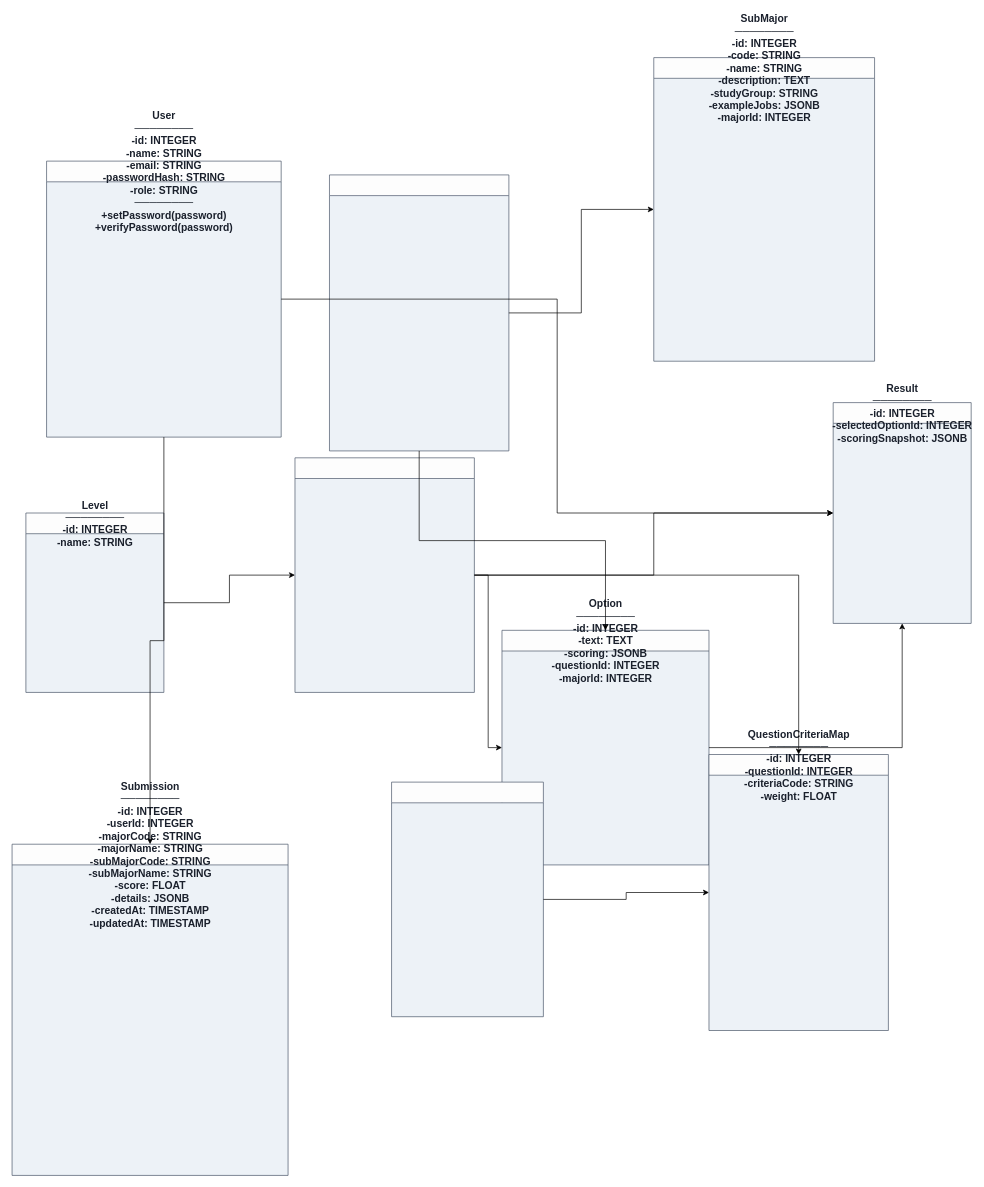
The diagram is 984 pixels wide and 1187 high, and some of its shapes have lost their labels. Here are the shapes that lost their labels. From the top down, the centre of each, then its label:
the point at 419,312: Major ──────── -id: INTEGER -code: STRING -name: STRING -description: TEXT
the point at 384,574: Question ──────── -id: INTEGER -text: TEXT -levelId: INTEGER
the point at 467,899: Criteria ──────── -id: INTEGER -code: STRING -name: STRING -description: TEXT
